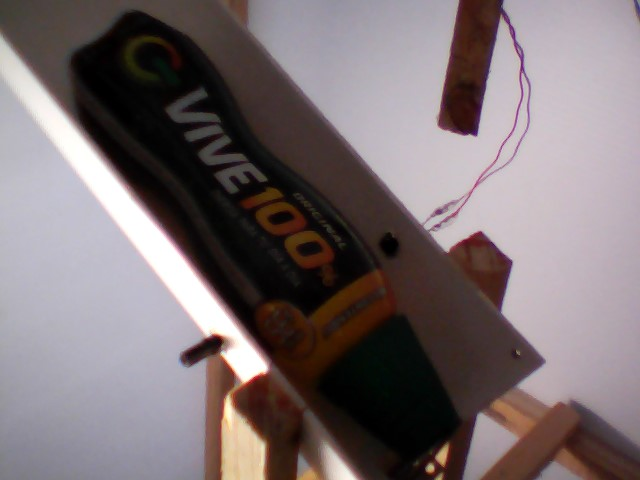plastico: (71, 6, 477, 480)
